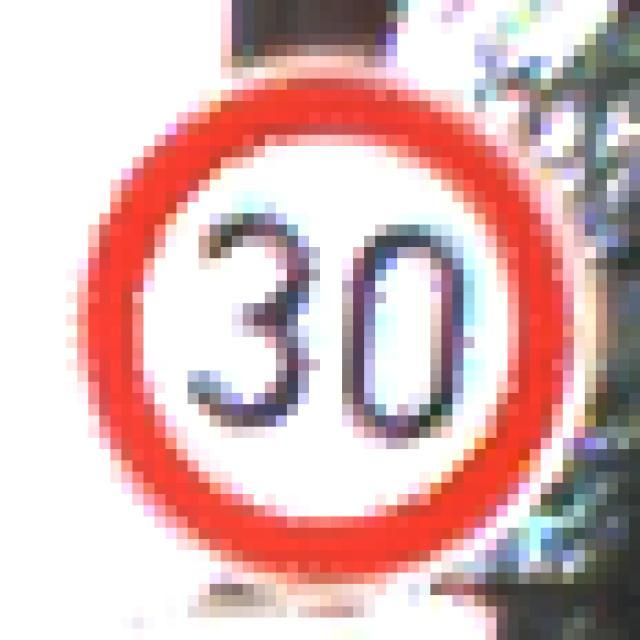Speed Limit -30-: (66, 50, 574, 568)
